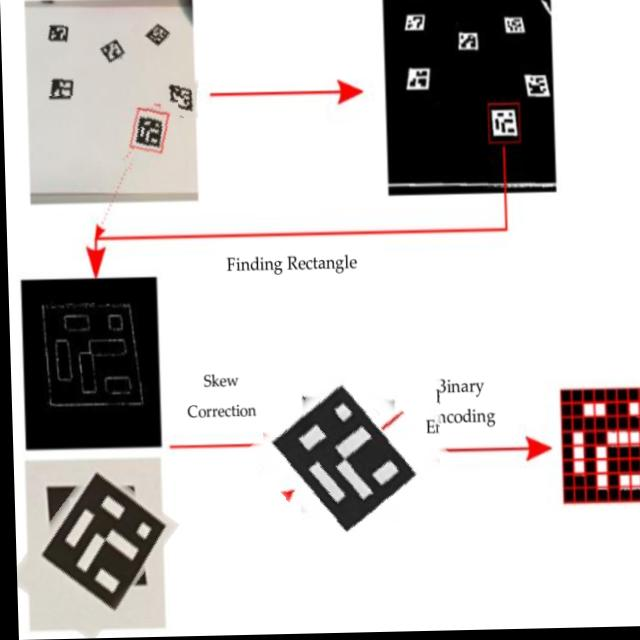aruco: (259, 366, 442, 550), (18, 469, 162, 636), (103, 101, 179, 171), (83, 30, 136, 70), (135, 11, 177, 60), (153, 76, 197, 120), (38, 64, 85, 96), (40, 12, 69, 55)
